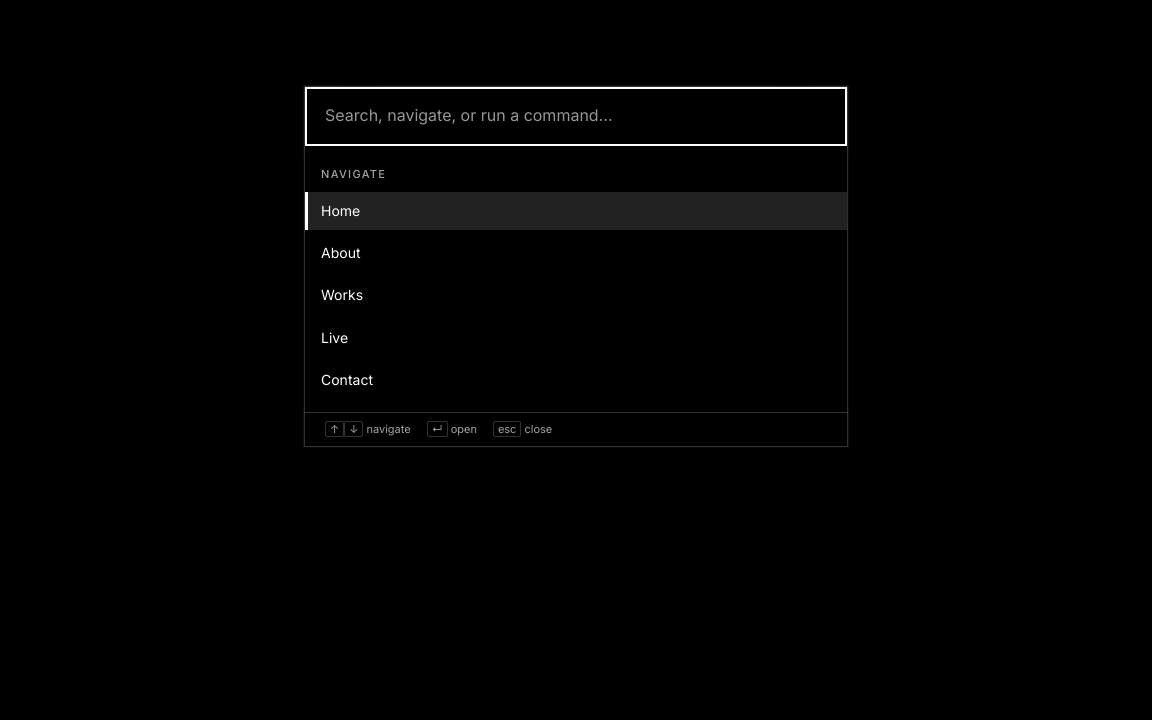
Scenario: CommandPalette › shows a no-match message for an unmatched query
The image size is (1152, 720).
Type "zzzzzznothing" into the dropdown with class "command-palette__input" at (576, 117), box [305,87,847,146]
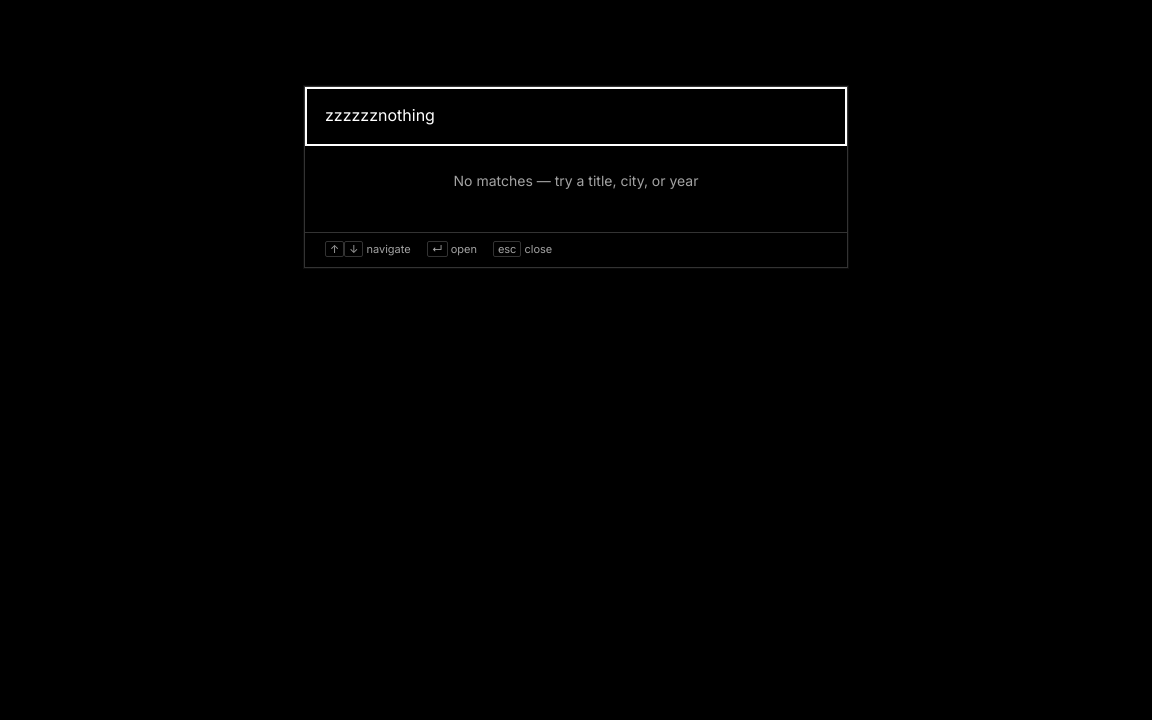
Now the text with class "command-palette__empty" shows "No matches", box [454,172,698,189]
Now the dropdown with class "command-palette__input" is collapsed, box [305,87,847,146]
